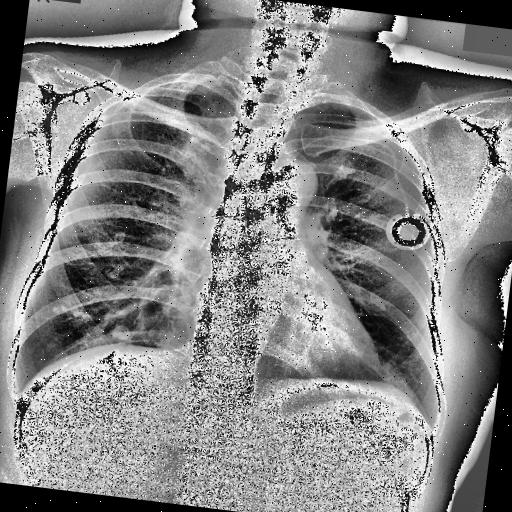0- Aortic enlargement: (260, 152, 324, 208)
11- Pleural thickening: (146, 74, 226, 104)
13- Pulmonary fibrosis: (59, 246, 103, 270), (50, 301, 96, 321)
2- Calcification: (362, 292, 388, 312), (368, 291, 388, 312), (106, 231, 126, 249), (107, 262, 123, 280)
8- Nodule-Mass: (362, 292, 388, 312), (52, 303, 86, 318), (108, 322, 132, 342), (109, 324, 132, 340), (112, 324, 130, 340), (112, 228, 128, 244)
9- Other lesion: (51, 300, 84, 320), (108, 322, 132, 342), (368, 291, 388, 312), (107, 261, 124, 279), (56, 256, 74, 268)
